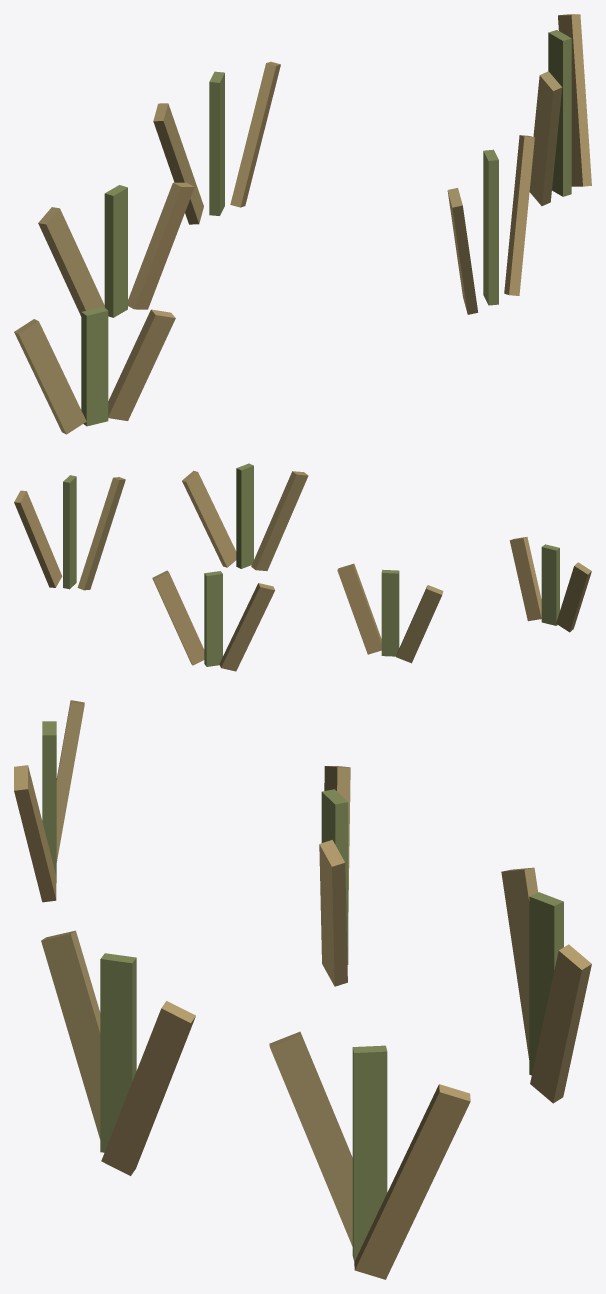
The model's file is scattered_roadside_grass.glb.
3 renders of one model, top to bottom at view 1: azimuth 30°, elevation 25°; view 2: azimuth 150°, elevation 25°; view 3: azimuth 270°, elevation 25°, orthographic. The views are drawn at different scales.
Visible parts, largest first — view 1: Dry grass blade, Dry grass blade.001, Dry grass blade.002, Dry grass blade.005, Dry grass blade.004, Dry grass blade.014, Dry grass blade.012, Dry grass blade.003, Dry grass blade.013, Dry grass blade.011, Dry grass blade.010, Dry grass blade.008 (+3 smaller); view 2: Dry grass blade.011, Dry grass blade.009, Dry grass blade.010, Dry grass blade.006, Dry grass blade.008, Dry grass blade.007, Dry grass blade.005, Dry grass blade.014, Dry grass blade.004, Dry grass blade.012, Dry grass blade.013, Dry grass blade.002 (+3 smaller); view 3: Dry grass blade.014, Dry grass blade.013, Dry grass blade.012, Dry grass blade.011, Dry grass blade.010, Dry grass blade.009, Dry grass blade.008, Dry grass blade.007, Dry grass blade.005, Dry grass blade.006, Dry grass blade.002, Dry grass blade.001 (+3 smaller).
Boxes of the visible parts, x1,y1,x2,y2 form: Dry grass blade: [14, 319, 86, 434]; Dry grass blade.001: [81, 307, 108, 426]; Dry grass blade.002: [108, 309, 175, 420]; Dry grass blade.005: [127, 182, 194, 309]; Dry grass blade.004: [104, 185, 127, 317]; Dry grass blade.014: [558, 14, 591, 186]; Dry grass blade.012: [529, 71, 562, 205]; Dry grass blade.003: [38, 207, 104, 316]; Dry grass blade.013: [548, 30, 571, 196]; Dry grass blade.011: [504, 135, 534, 295]; Dry grass blade.010: [483, 149, 498, 305]; Dry grass blade.008: [230, 61, 280, 207]; Dry grass blade.011: [182, 470, 236, 567]; Dry grass blade.009: [251, 471, 308, 570]; Dry grass blade.010: [236, 463, 253, 568]; Dry grass blade.006: [219, 583, 274, 671]; Dry grass blade.008: [152, 570, 204, 665]; Dry grass blade.007: [204, 571, 222, 666]; Dry grass blade.005: [337, 563, 381, 654]; Dry grass blade.014: [14, 490, 62, 587]; Dry grass blade.004: [381, 569, 399, 656]; Dry grass blade.012: [77, 477, 125, 590]; Dry grass blade.013: [63, 475, 76, 589]; Dry grass blade.002: [509, 537, 541, 621]; Dry grass blade.014: [354, 1084, 470, 1279]; Dry grass blade.013: [352, 1045, 387, 1261]; Dry grass blade.012: [269, 1031, 352, 1246]; Dry grass blade.011: [101, 1001, 195, 1175]; Dry grass blade.010: [100, 953, 136, 1152]; Dry grass blade.009: [41, 930, 100, 1139]; Dry grass blade.008: [530, 944, 591, 1103]; Dry grass blade.007: [529, 892, 563, 1075]; Dry grass blade.005: [319, 840, 347, 986]; Dry grass blade.006: [501, 867, 538, 1059]; Dry grass blade.002: [14, 765, 56, 902]; Dry grass blade.001: [42, 721, 56, 882].
Size of the model in its own units: 1.36 by 0.298 by 0.7265.
